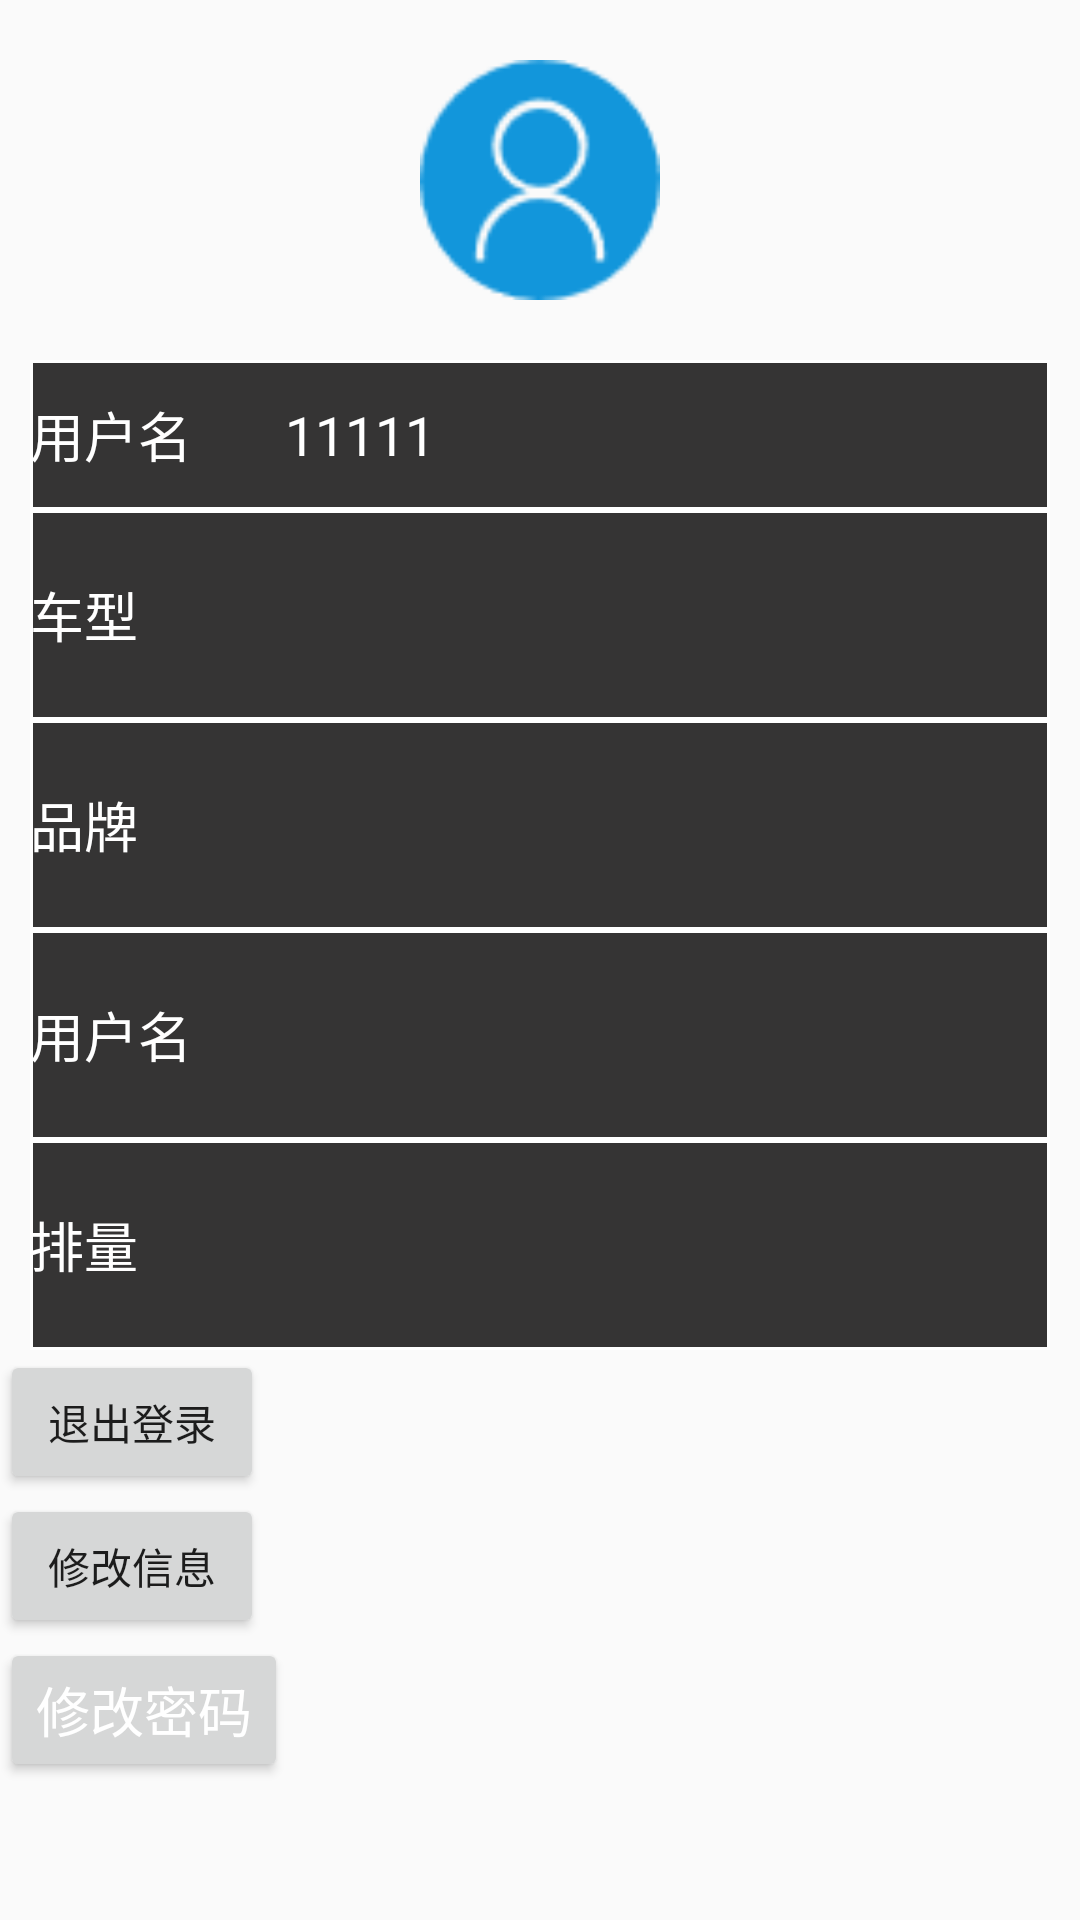

Point at icon controls on the screen. Image size 1080x1920, points as point (x, y).
user: point (540, 180)
